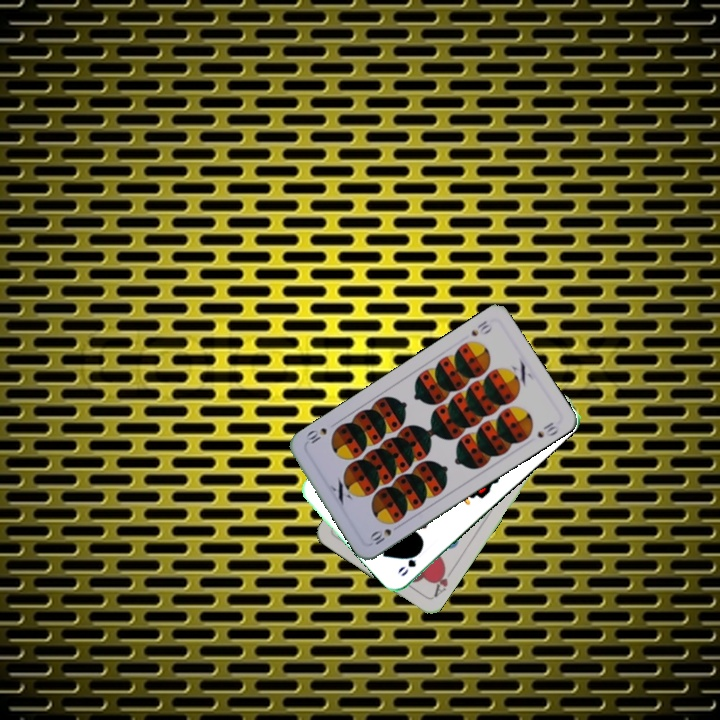GO: (394, 544, 425, 579)
HA: (429, 562, 451, 600)
S10: (365, 520, 403, 550), (467, 316, 495, 339)
